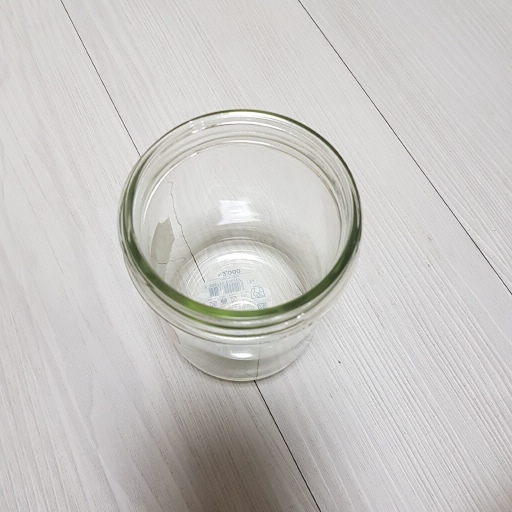Glass_5: (116, 106, 365, 384)
